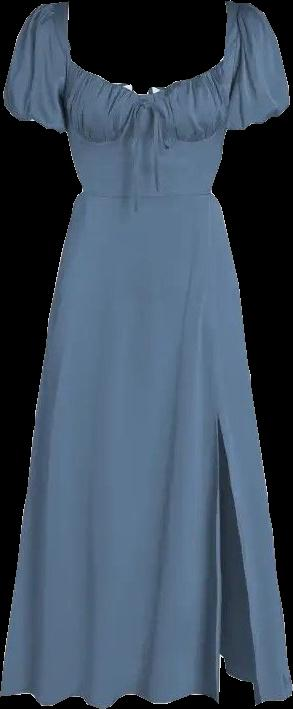Bodice: (53, 1, 242, 197)
Hemline: (0, 414, 292, 708)
Neckline: (62, 0, 234, 103), (64, 99, 229, 145)
Skirt: (4, 189, 291, 707)
Sleeve: (3, 4, 64, 133), (227, 3, 289, 129)
Sleeveline: (223, 0, 249, 126), (49, 4, 69, 126)
Waistline: (78, 188, 218, 202)
